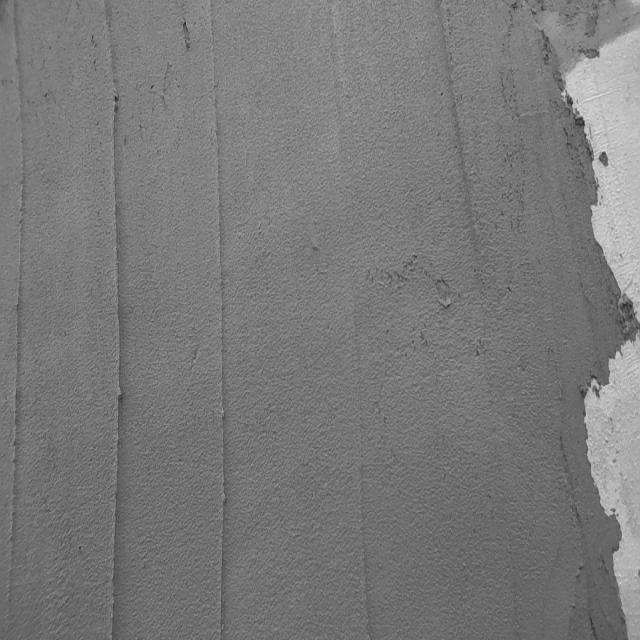trowels marks: (205, 2, 231, 640), (102, 51, 124, 640), (442, 12, 488, 278), (9, 7, 25, 640), (356, 326, 372, 639)
